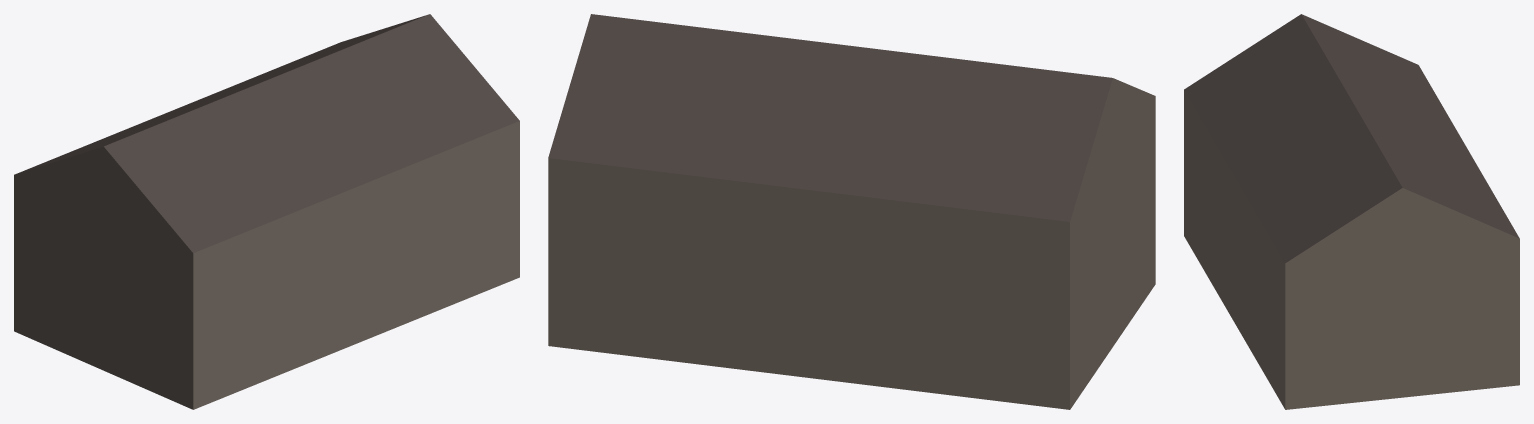
3 renders of one model, left to right at view 1: azimuth 30°, elevation 25°; view 2: azimuth 150°, elevation 25°; view 3: azimuth 270°, elevation 25°, orthographic. The views are drawn at different scales.
Visible parts, largest first — view 1: HP-w408450761; view 2: HP-w408450761; view 3: HP-w408450761.
Boxes of the visible parts, x1,y1,x2,y2 form: HP-w408450761: (14,14,519,409); HP-w408450761: (548,14,1155,409); HP-w408450761: (1184,14,1519,409).
Size of the model in its own units: 17.43 by 8.59 by 12.46.
